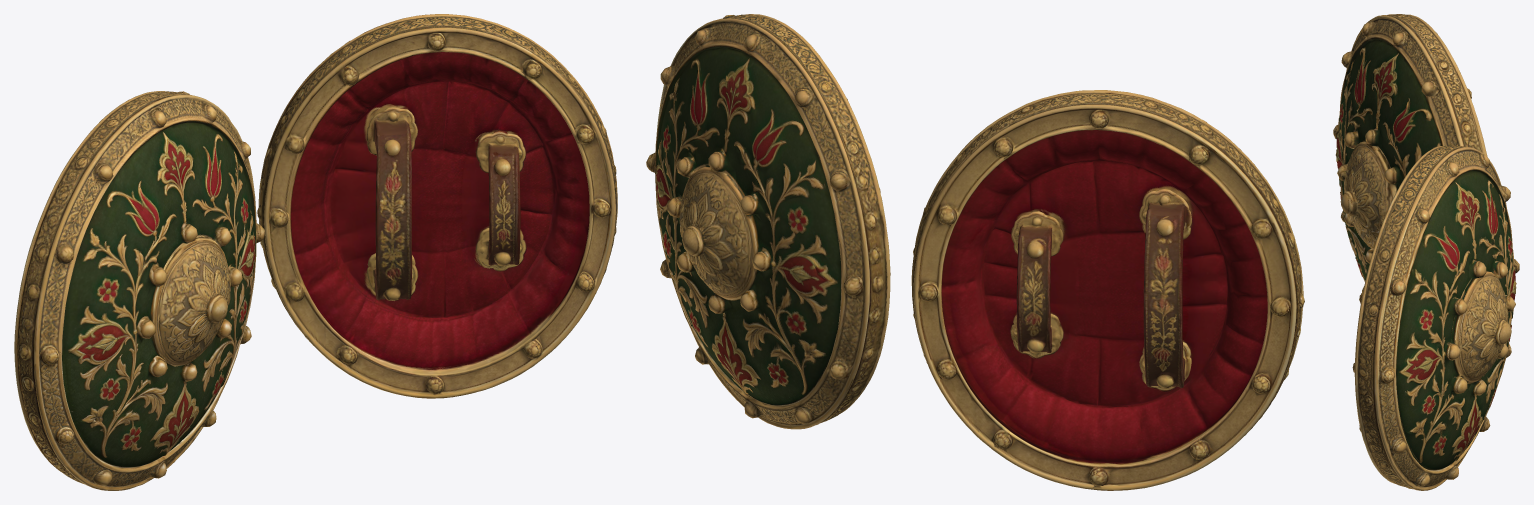
Rendered from Tören kalkanı.glb.
3 views of the same model, side by side, from view 1: azimuth 30°, elevation 25°; view 2: azimuth 150°, elevation 25°; view 3: azimuth 270°, elevation 25° (orthographic). The views are drawn at different scales.
Visible parts, largest first — view 1: tripo_node_893971a3-901f-4a52-bc8c-6574f21fea0d; view 2: tripo_node_893971a3-901f-4a52-bc8c-6574f21fea0d; view 3: tripo_node_893971a3-901f-4a52-bc8c-6574f21fea0d.
Boxes of the visible parts, bbox=[...] form: tripo_node_893971a3-901f-4a52-bc8c-6574f21fea0d: bbox=[14, 14, 617, 490]; tripo_node_893971a3-901f-4a52-bc8c-6574f21fea0d: bbox=[646, 14, 1304, 490]; tripo_node_893971a3-901f-4a52-bc8c-6574f21fea0d: bbox=[1333, 14, 1519, 490].
Bounding box in the file's own units: 0.9799 × 0.5756 × 0.3003.
1 material, 1 textured.
